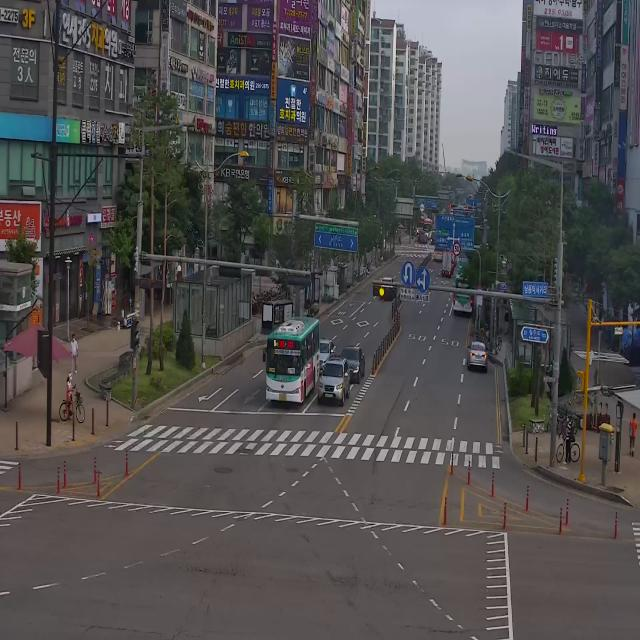Bus: (261, 310, 319, 410), (451, 264, 476, 318)
Car: (318, 355, 350, 406), (340, 344, 365, 384), (467, 340, 487, 372), (318, 338, 336, 372)
Truck: (440, 246, 454, 278)
